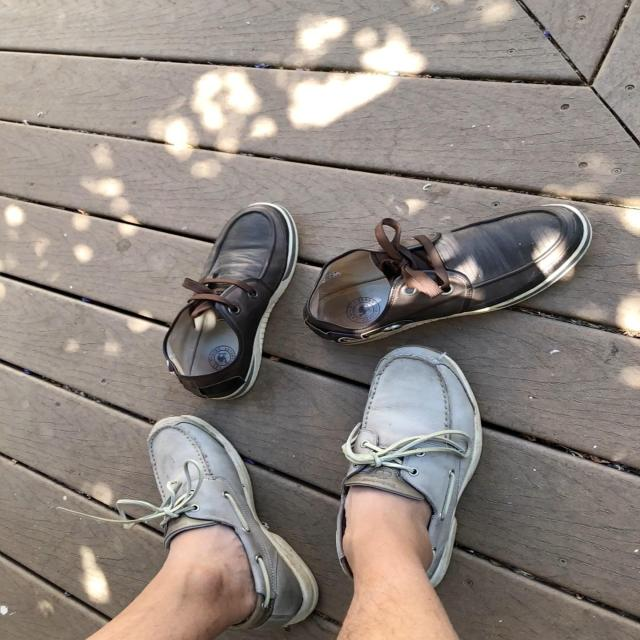shoe: (306, 199, 609, 340), (332, 342, 483, 591), (143, 413, 317, 629), (158, 208, 298, 398)
